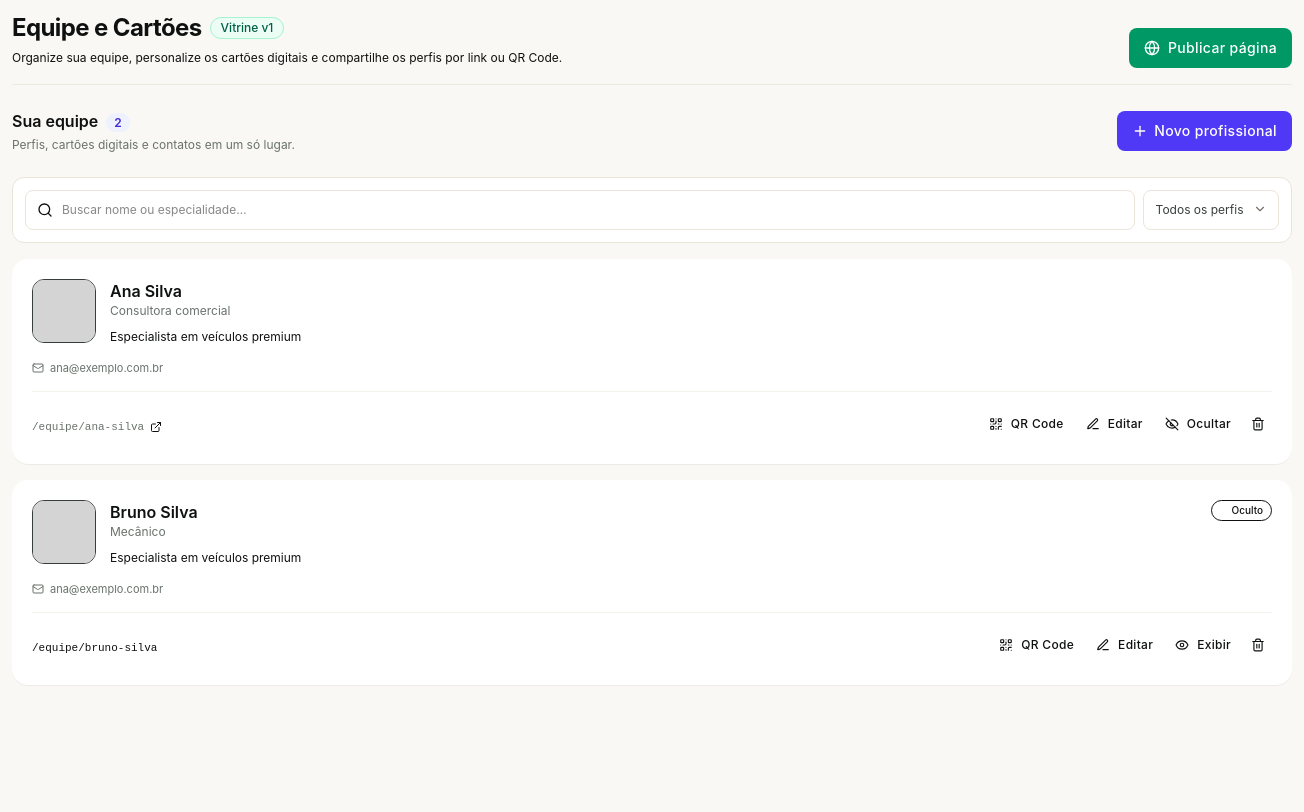
it: Equipe do painel › combina busca por especialidade e visibilidade e permite limpar filtros
Expected: the number of list items is 2, [12,258,1292,464]; [12,480,1292,684]
Type "mecânico" into the search field at (580, 210), box [25,190,1135,230]
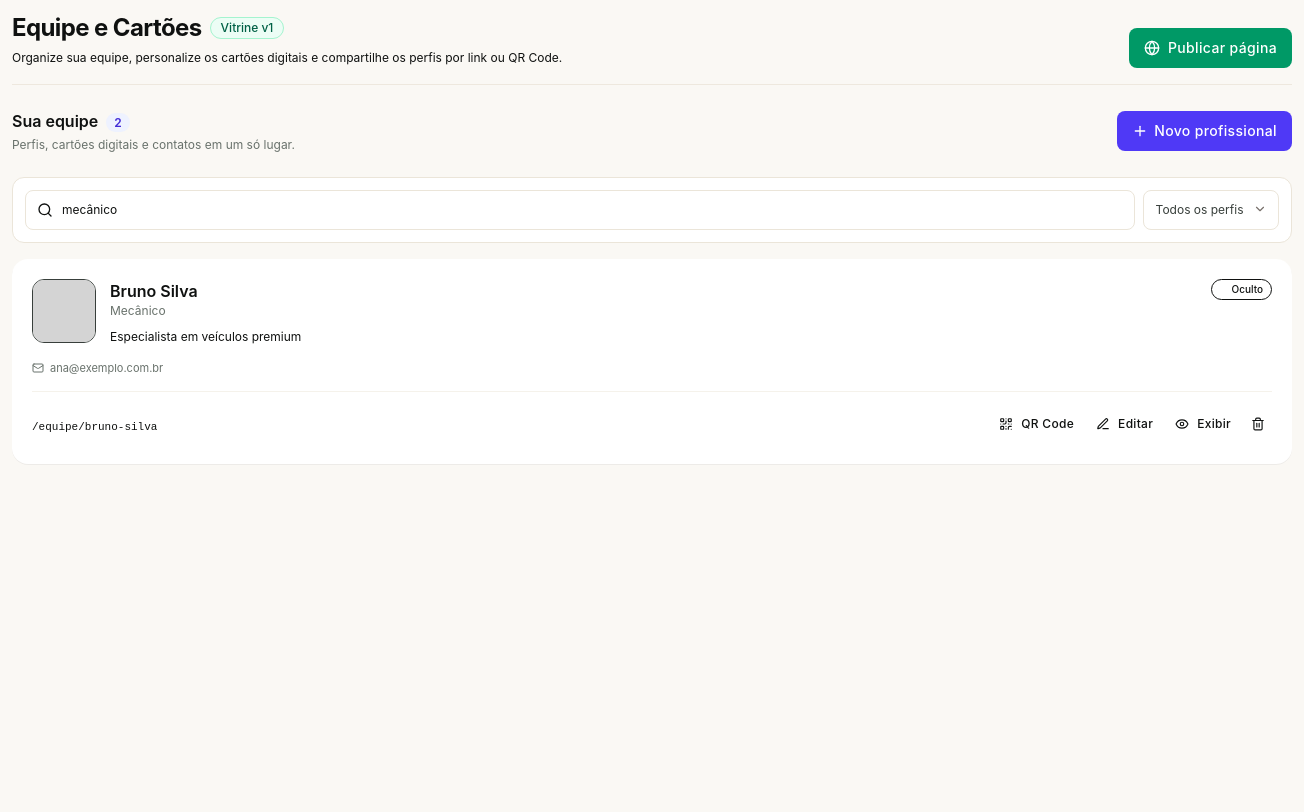
Expected: the heading "Bruno Silva" is shown, [110,278,198,302]
Now the heading "Ana Silva" is gone
Select "Ativos" in the dropdown named "Filtrar visibilidade" at (1211, 210), box [1143,190,1279,230]
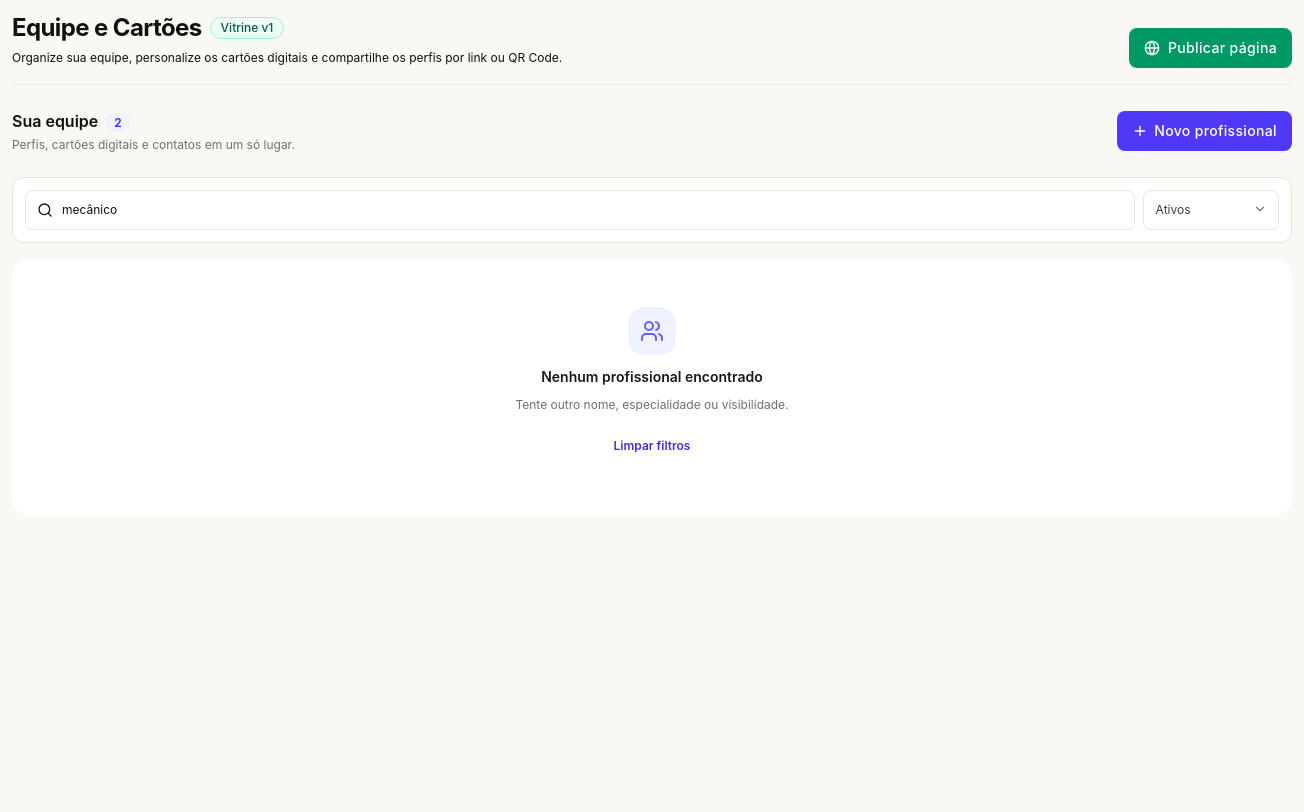
Now the heading "Nenhum profissional encontrado" is shown, box [541,367,763,387]
Click the button "Limpar filtros" at (652, 446), box [602,426,702,466]
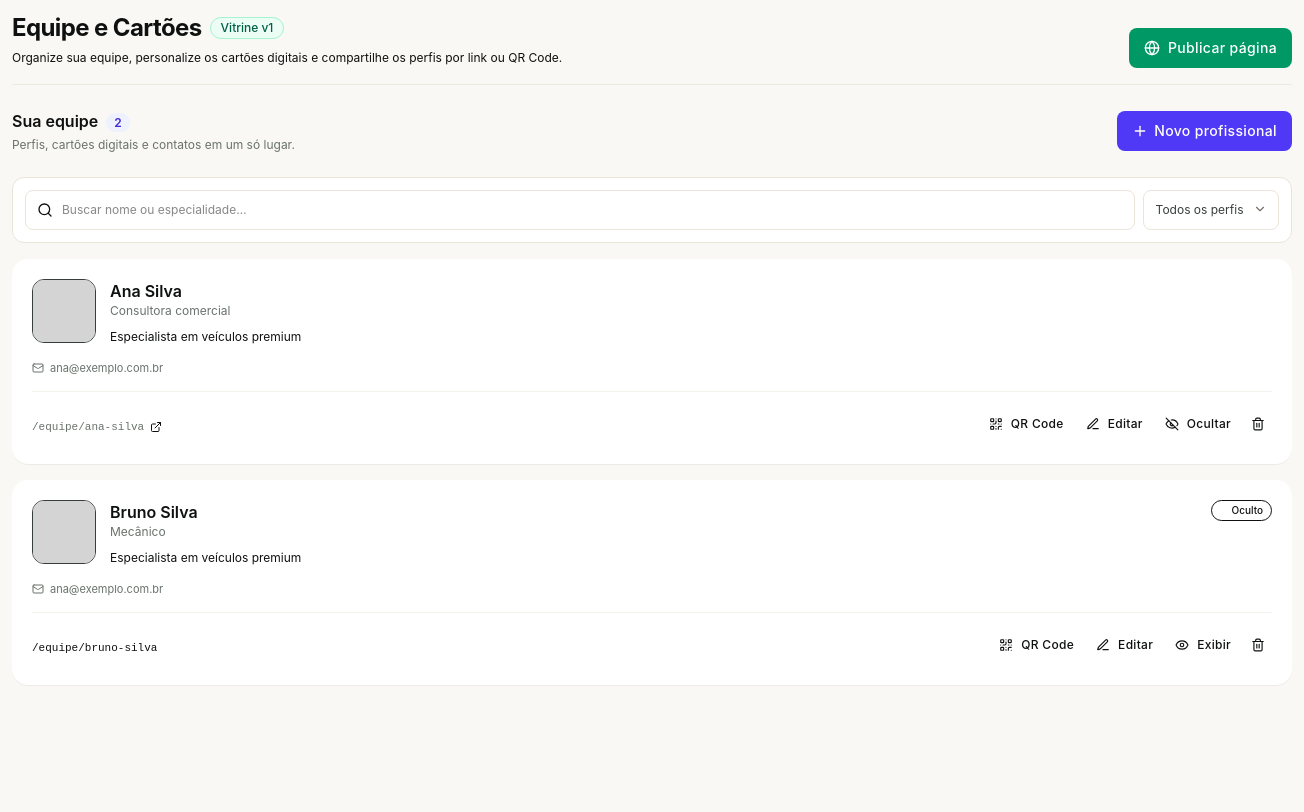
Now the number of list items is 2, box [12,258,1292,464]; [12,480,1292,684]
